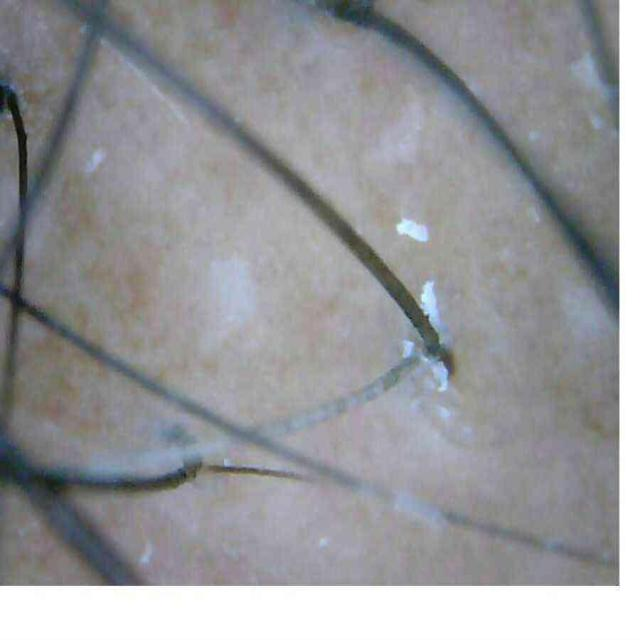d: (417, 278, 445, 339), (396, 215, 432, 247), (429, 358, 452, 392), (402, 337, 417, 360)
